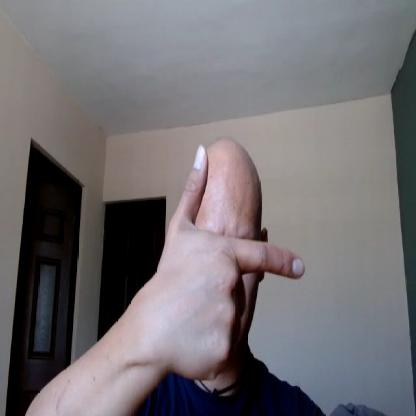G: (165, 143, 305, 376)
